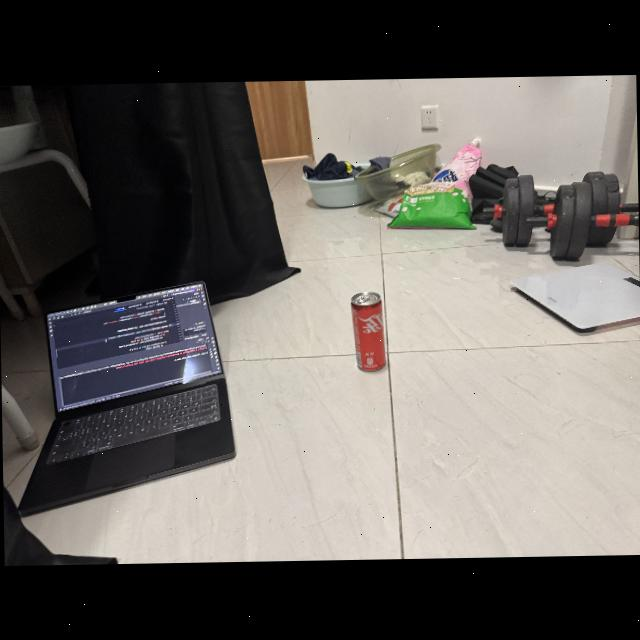Cola: (346, 288, 386, 374)
